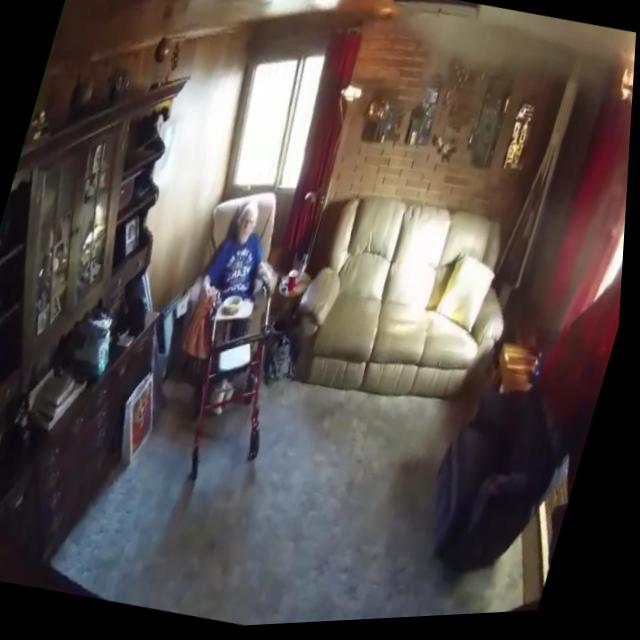fire: (614, 44, 637, 126)
